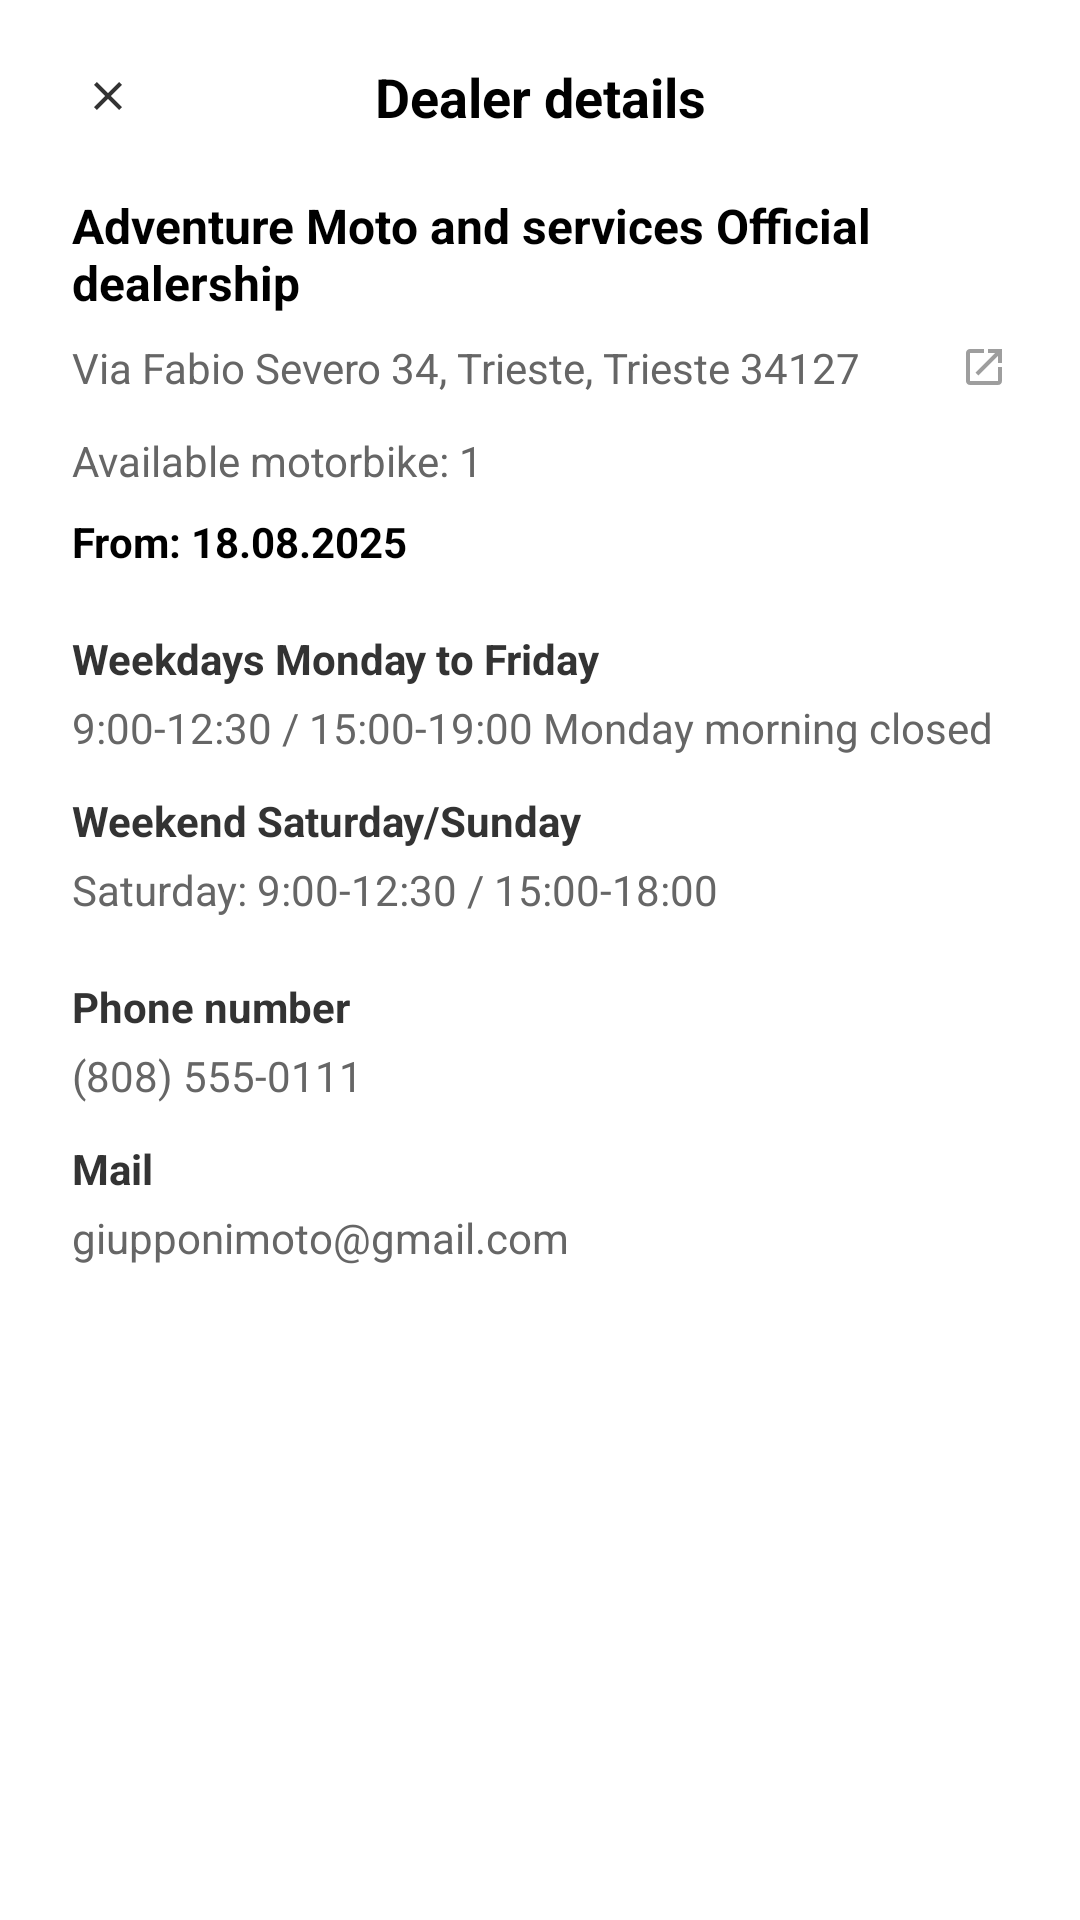

Where to tap for icons on this 1080*1920 app screen, as (x=x, y=y):
close: (x=108, y=96)
external link: (x=984, y=367)
